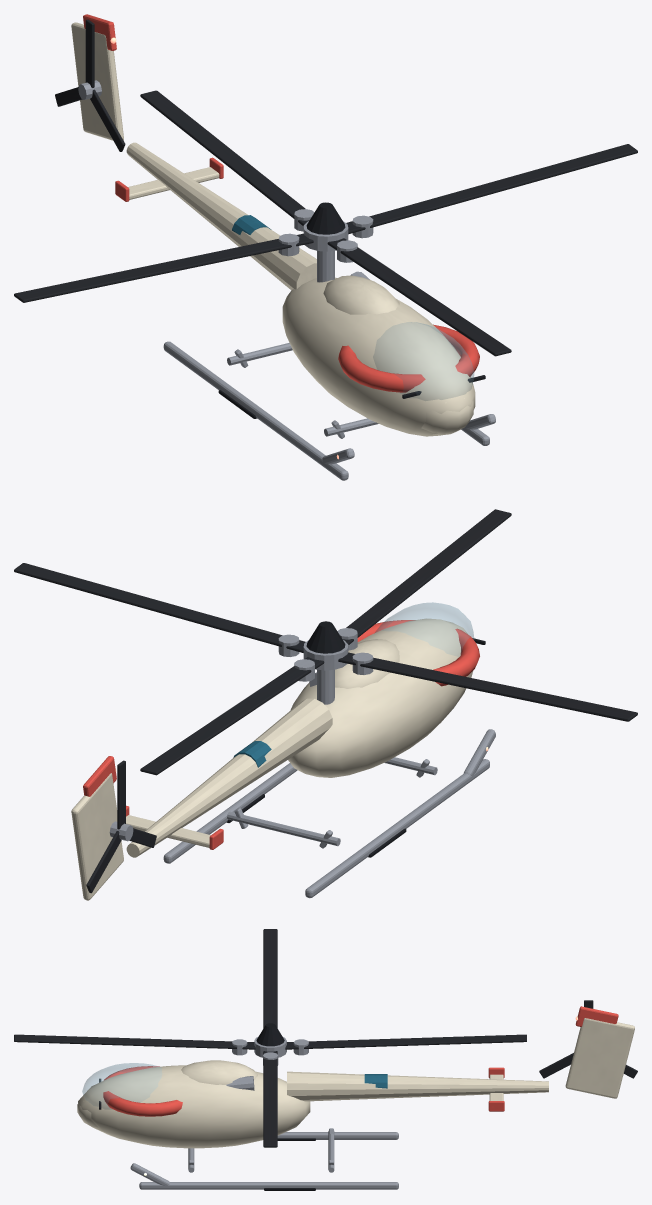
Rendered from misc_helicopter.glb.
3 renders of one model, top to bottom at view 1: azimuth 30°, elevation 25°; view 2: azimuth 150°, elevation 25°; view 3: azimuth 270°, elevation 25°, orthographic. The views are drawn at different scales.
Visible parts, largest first — view 1: misc_helicopter_cabin, misc_helicopter_cockpit_glass, misc_helicopter_boom, misc_helicopter_rotor_blade_0, misc_helicopter_rotor_blade_2, misc_helicopter_fin, misc_helicopter_rotor_blade_1, misc_helicopter_rotor_blade_3, misc_helicopter_shoulder, misc_helicopter_skid_l, misc_helicopter_fairing, misc_helicopter_nose (+4 smaller); view 2: misc_helicopter_cabin, misc_helicopter_boom, misc_helicopter_fin, misc_helicopter_rotor_blade_0, misc_helicopter_rotor_blade_2, misc_helicopter_rotor_blade_3, misc_helicopter_cockpit_glass, misc_helicopter_rotor_blade_1, misc_helicopter_skid_l, misc_helicopter_fairing, misc_helicopter_skid_r, misc_helicopter_shoulder (+9 smaller); view 3: misc_helicopter_cabin, misc_helicopter_boom, misc_helicopter_fin, misc_helicopter_cockpit_glass, misc_helicopter_skid_r, misc_helicopter_rotor_blade_3, misc_helicopter_rotor_blade_1, misc_helicopter_rotor_blade_2, misc_helicopter_rotor_blade_0, misc_helicopter_fairing, misc_helicopter_shoulder, misc_helicopter_skid_l (+2 smaller).
Part boxes in pixels (bbox=[...]): misc_helicopter_cabin: bbox=[282, 277, 475, 436]; misc_helicopter_cockpit_glass: bbox=[373, 322, 473, 400]; misc_helicopter_boom: bbox=[126, 142, 316, 290]; misc_helicopter_rotor_blade_0: bbox=[346, 144, 637, 234]; misc_helicopter_rotor_blade_2: bbox=[14, 233, 313, 302]; misc_helicopter_fin: bbox=[71, 22, 123, 140]; misc_helicopter_rotor_blade_1: bbox=[140, 90, 309, 226]; misc_helicopter_rotor_blade_3: bbox=[327, 238, 511, 356]; misc_helicopter_shoulder: bbox=[338, 324, 479, 392]; misc_helicopter_skid_l: bbox=[163, 341, 348, 480]; misc_helicopter_fairing: bbox=[323, 275, 399, 314]; misc_helicopter_nose: bbox=[421, 398, 473, 435]; misc_helicopter_cabin: bbox=[288, 618, 472, 777]; misc_helicopter_boom: bbox=[126, 698, 332, 857]; misc_helicopter_fin: bbox=[71, 773, 123, 900]; misc_helicopter_rotor_blade_0: bbox=[14, 563, 305, 652]; misc_helicopter_rotor_blade_2: bbox=[338, 652, 637, 721]; misc_helicopter_rotor_blade_3: bbox=[342, 509, 511, 644]; misc_helicopter_cockpit_glass: bbox=[375, 602, 473, 656]; misc_helicopter_rotor_blade_1: bbox=[140, 657, 324, 775]; misc_helicopter_skid_l: bbox=[305, 759, 489, 898]; misc_helicopter_fairing: bbox=[335, 639, 399, 688]; misc_helicopter_skid_r: bbox=[163, 763, 297, 863]; misc_helicopter_shoulder: bbox=[357, 620, 479, 686]; misc_helicopter_cabin: bbox=[78, 1065, 310, 1148]; misc_helicopter_boom: bbox=[287, 1071, 548, 1101]; misc_helicopter_fin: bbox=[565, 1018, 634, 1098]; misc_helicopter_cockpit_glass: bbox=[82, 1063, 161, 1109]; misc_helicopter_skid_r: bbox=[139, 1182, 398, 1189]; misc_helicopter_rotor_blade_3: bbox=[14, 1034, 255, 1049]; misc_helicopter_rotor_blade_1: bbox=[285, 1034, 526, 1049]; misc_helicopter_rotor_blade_2: bbox=[263, 929, 277, 1028]; misc_helicopter_rotor_blade_0: bbox=[263, 1051, 277, 1147]; misc_helicopter_fairing: bbox=[181, 1060, 257, 1084]; misc_helicopter_shoulder: bbox=[103, 1066, 182, 1116]; misc_helicopter_skid_l: bbox=[277, 1132, 398, 1139].
Size of the model in its own units: 10.33 by 3.51 by 12.57.
9 materials, 7 textured.
